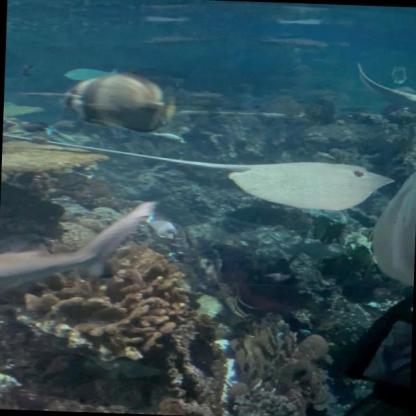fish: (58, 68, 178, 136), (361, 165, 415, 289), (60, 66, 121, 82)
shark: (0, 194, 155, 305)
stingray: (225, 158, 396, 212)
